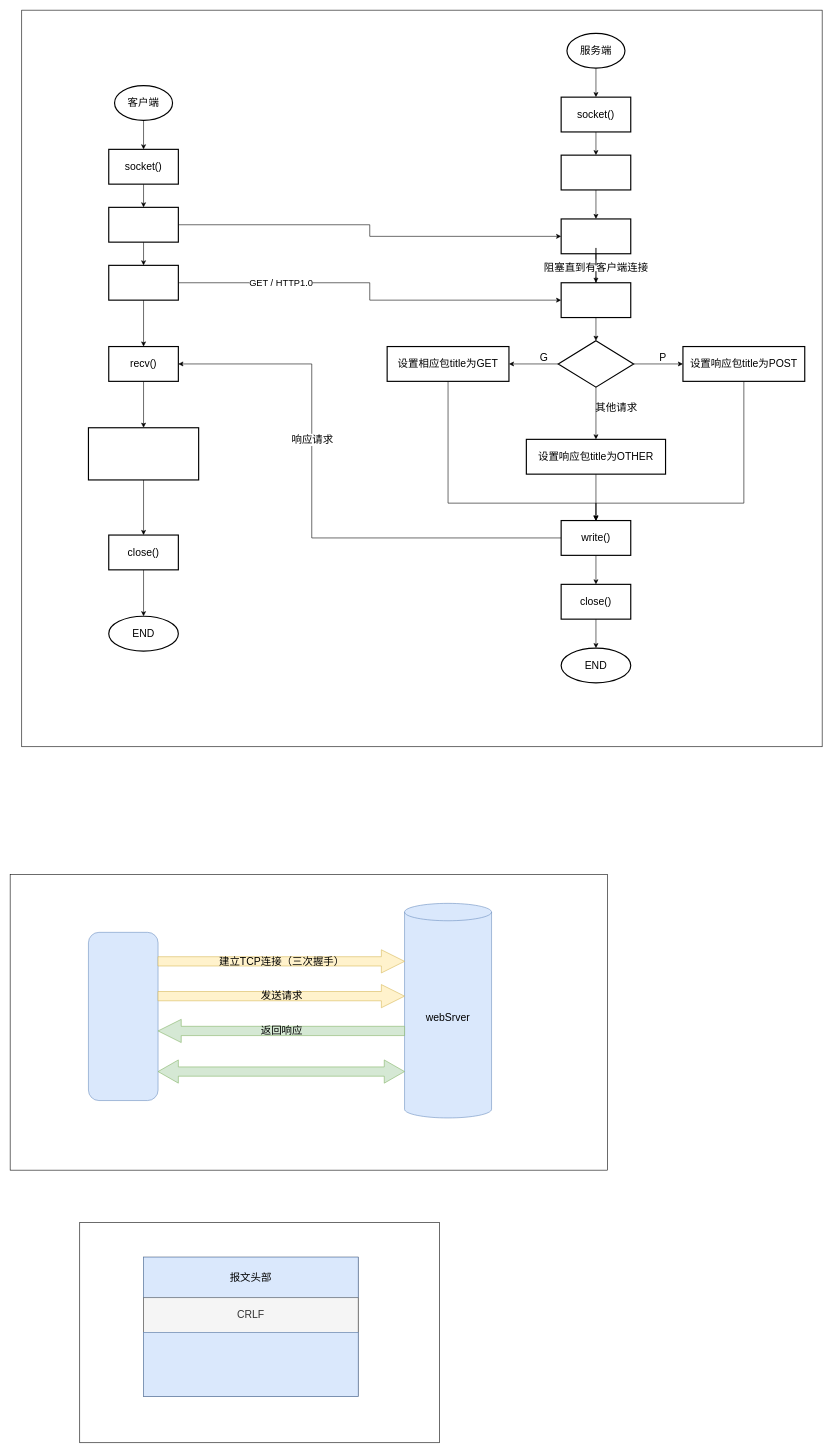
The diagram is 832 pixels wide and 1453 high, and some of its shapes have lost their labels. The shapes that lost their labels are listed below. From the top down, each one's box as (x1, y1, x2, y2) in pixels, then its label:
(560, 154, 631, 190): listen()
(108, 206, 179, 242): connect()
(560, 218, 631, 254): accept()
(108, 264, 179, 300): sent()
(560, 282, 631, 318): buf=read()
(557, 340, 634, 387): buf[0]=?
(88, 427, 199, 480): 将接收到的HTTP body部分保存到本地HTML文件
(88, 932, 158, 1101): client browser
(157, 1059, 405, 1083): 关闭连接（4次挥手）
(143, 1332, 358, 1396): 数据部分
